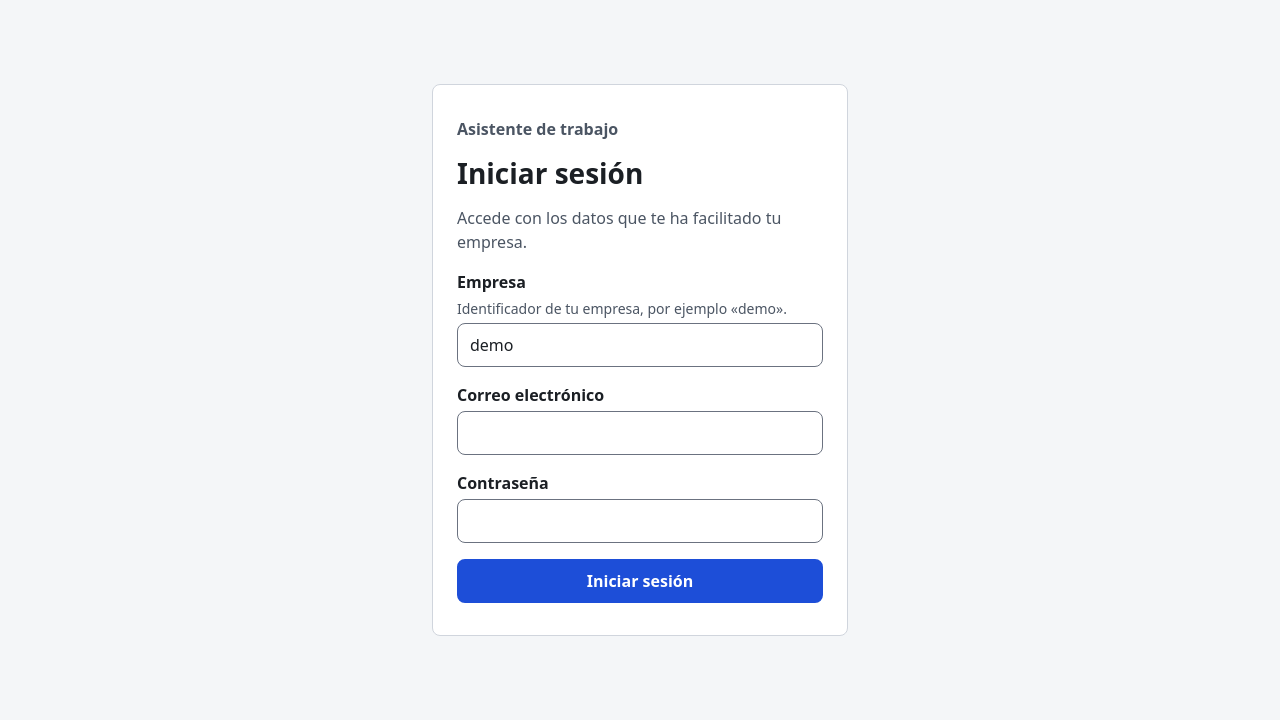
Test: LoginPage › returns to the protected page that sent you to the login
The width and height of the screenshot is (1280, 720).
Expected: the heading "Iniciar sesión" is shown, 457,154 -> 643,192
Type "admin@demo.test" into the field labelled "Correo electrónico" at (640, 433), box 457,411 -> 823,455
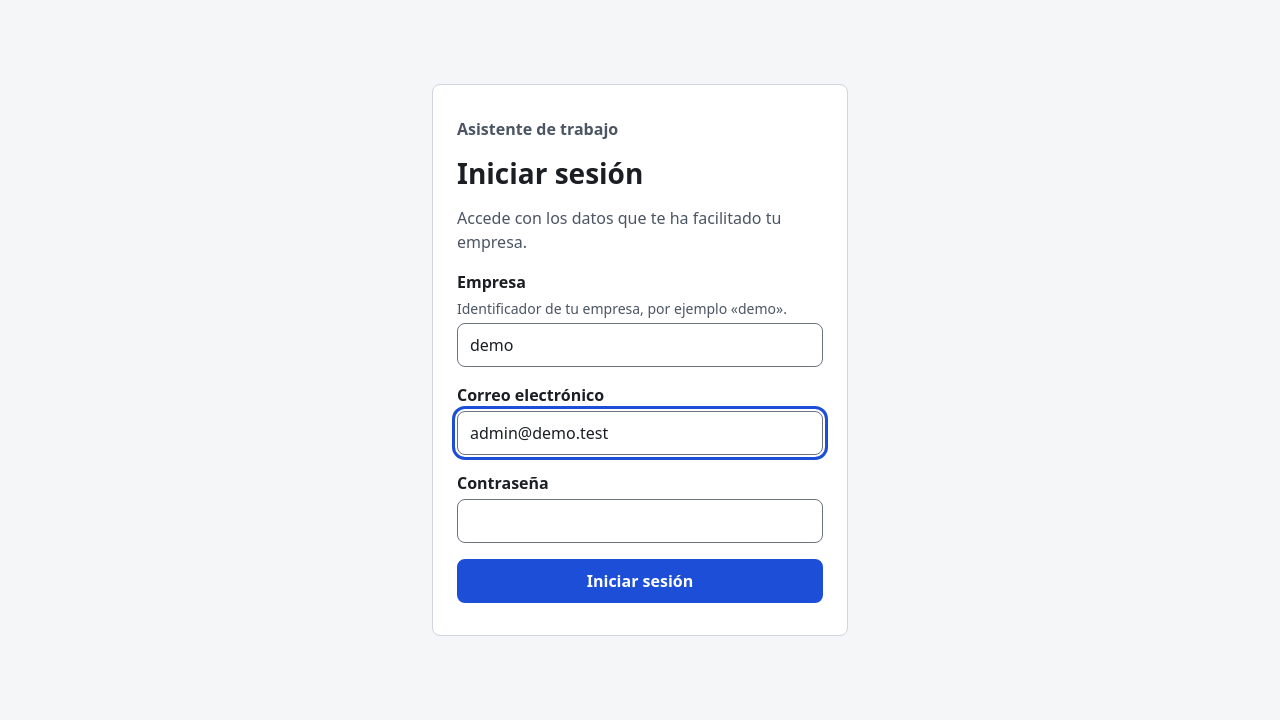
Type "demo-admin-pass" into the password field labelled "Contraseña" at (640, 521), box 457,499 -> 823,543
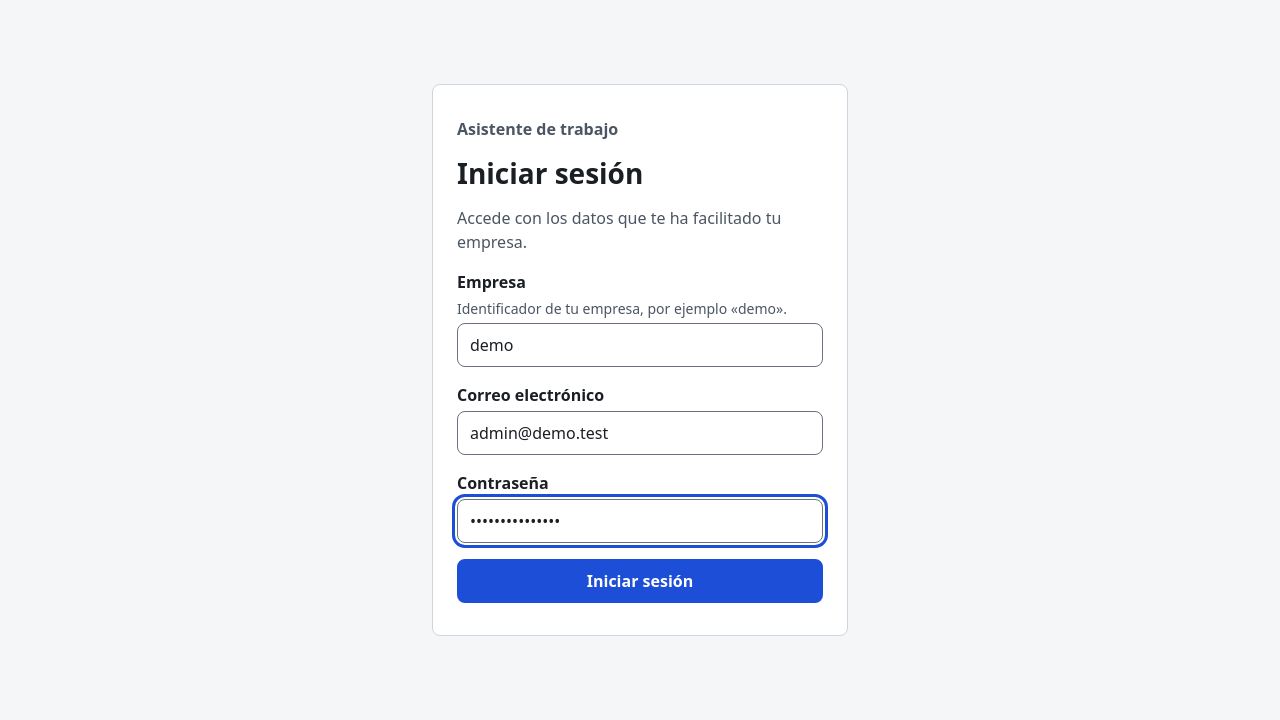
Click the button "Iniciar sesión" at (640, 581), box 457,559 -> 823,603
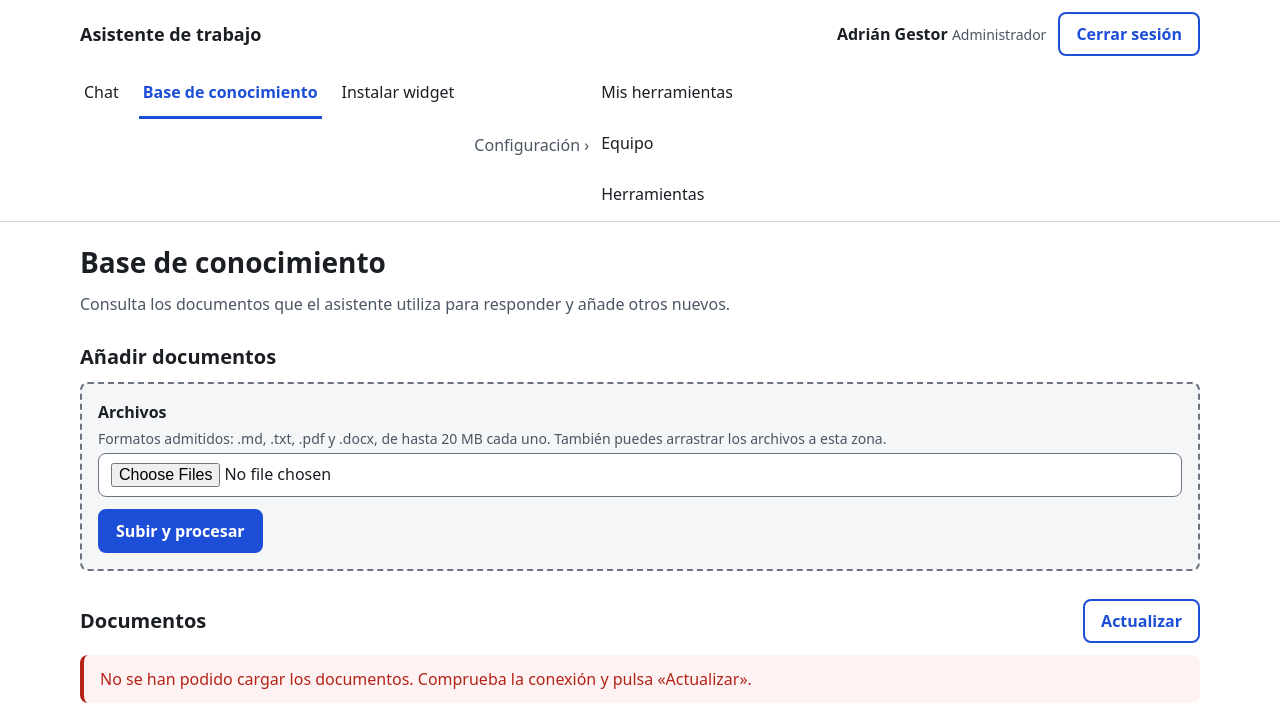
Expected: the heading "Base de conocimiento" is shown, 80,243 -> 386,281
